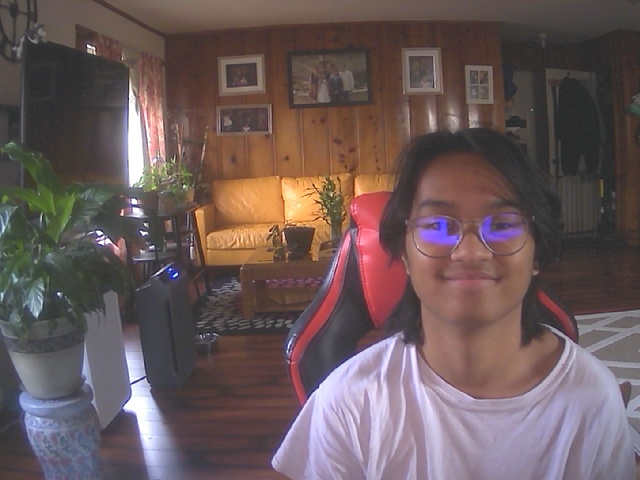happy: (394, 135, 555, 331)
